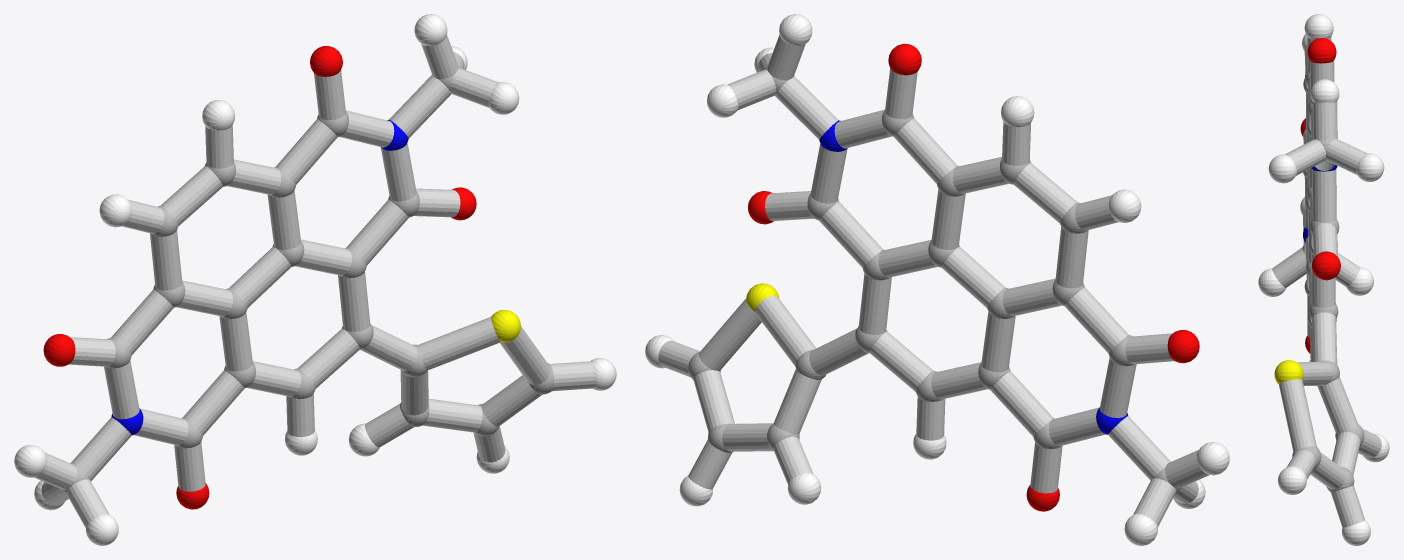
Rendered from Dimethyl_Naphthalene_Dicarboximide_Phi_0_Theta_210_Thiophene.glb.
The picture shows the model from 3 angles, left to right: view 1: azimuth 30°, elevation 25°; view 2: azimuth 150°, elevation 25°; view 3: azimuth 270°, elevation 25°; orthographic projection. The views are drawn at different scales.
Parts seen in each view (by area): view 1: grp14119, grp7241, grp1, grp12309, grp13757, grp11585; view 2: grp14119, grp7241, grp1, grp12309, grp11585; view 3: grp14119, grp7241, grp1, grp12309, grp13757.
Part boxes in pixels (box(x1,y1,x2,y2)): grp14119: box(34, 35, 594, 527); grp7241: box(14, 14, 616, 545); grp1: box(61, 65, 553, 494); grp12309: box(43, 46, 476, 509); grp13757: box(491, 310, 520, 342); grp11585: box(111, 119, 408, 435); grp14119: box(658, 35, 1209, 527); grp7241: box(645, 14, 1229, 545); grp1: box(688, 66, 1181, 492); grp12309: box(748, 43, 1199, 511); grp11585: box(819, 120, 1128, 434); grp14119: box(1272, 36, 1381, 527); grp7241: box(1258, 14, 1389, 545); grp1: box(1292, 70, 1364, 492); grp12309: box(1300, 38, 1340, 353); grp13757: box(1274, 360, 1303, 384).
Size of the model in its own units: 12.26 by 9.79 by 2.71.
